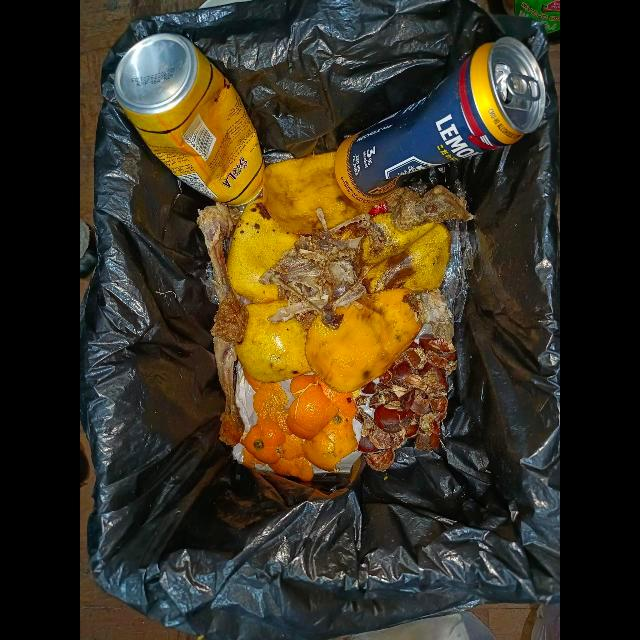aluminum: (334, 37, 546, 204), (113, 33, 265, 206)
left_over_food: (259, 208, 388, 325), (197, 202, 249, 343), (385, 185, 474, 231), (214, 337, 245, 448)
